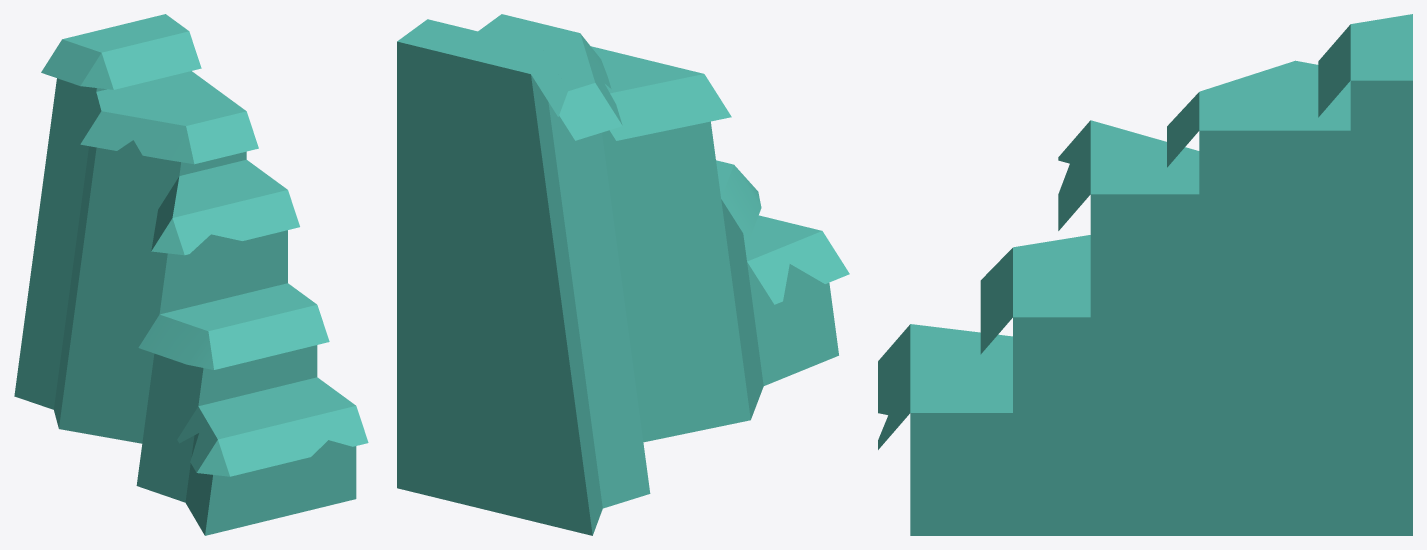
The model's file is cliffBrown_stepsEnd.fbx.
The picture shows the model from 3 angles, left to right: view 1: azimuth 30°, elevation 25°; view 2: azimuth 150°, elevation 25°; view 3: azimuth 270°, elevation 25°; orthographic projection. The views are drawn at different scales.
Parts seen in each view (by area): view 1: cliffBrown_stepsEnd; view 2: cliffBrown_stepsEnd; view 3: cliffBrown_stepsEnd.
Part boxes in pixels (bbox=[...]): cliffBrown_stepsEnd: bbox=[14, 14, 368, 535]; cliffBrown_stepsEnd: bbox=[397, 14, 849, 535]; cliffBrown_stepsEnd: bbox=[878, 14, 1412, 535].
Bounding box in the file's own units: 4.84 × 10 × 10.64.
